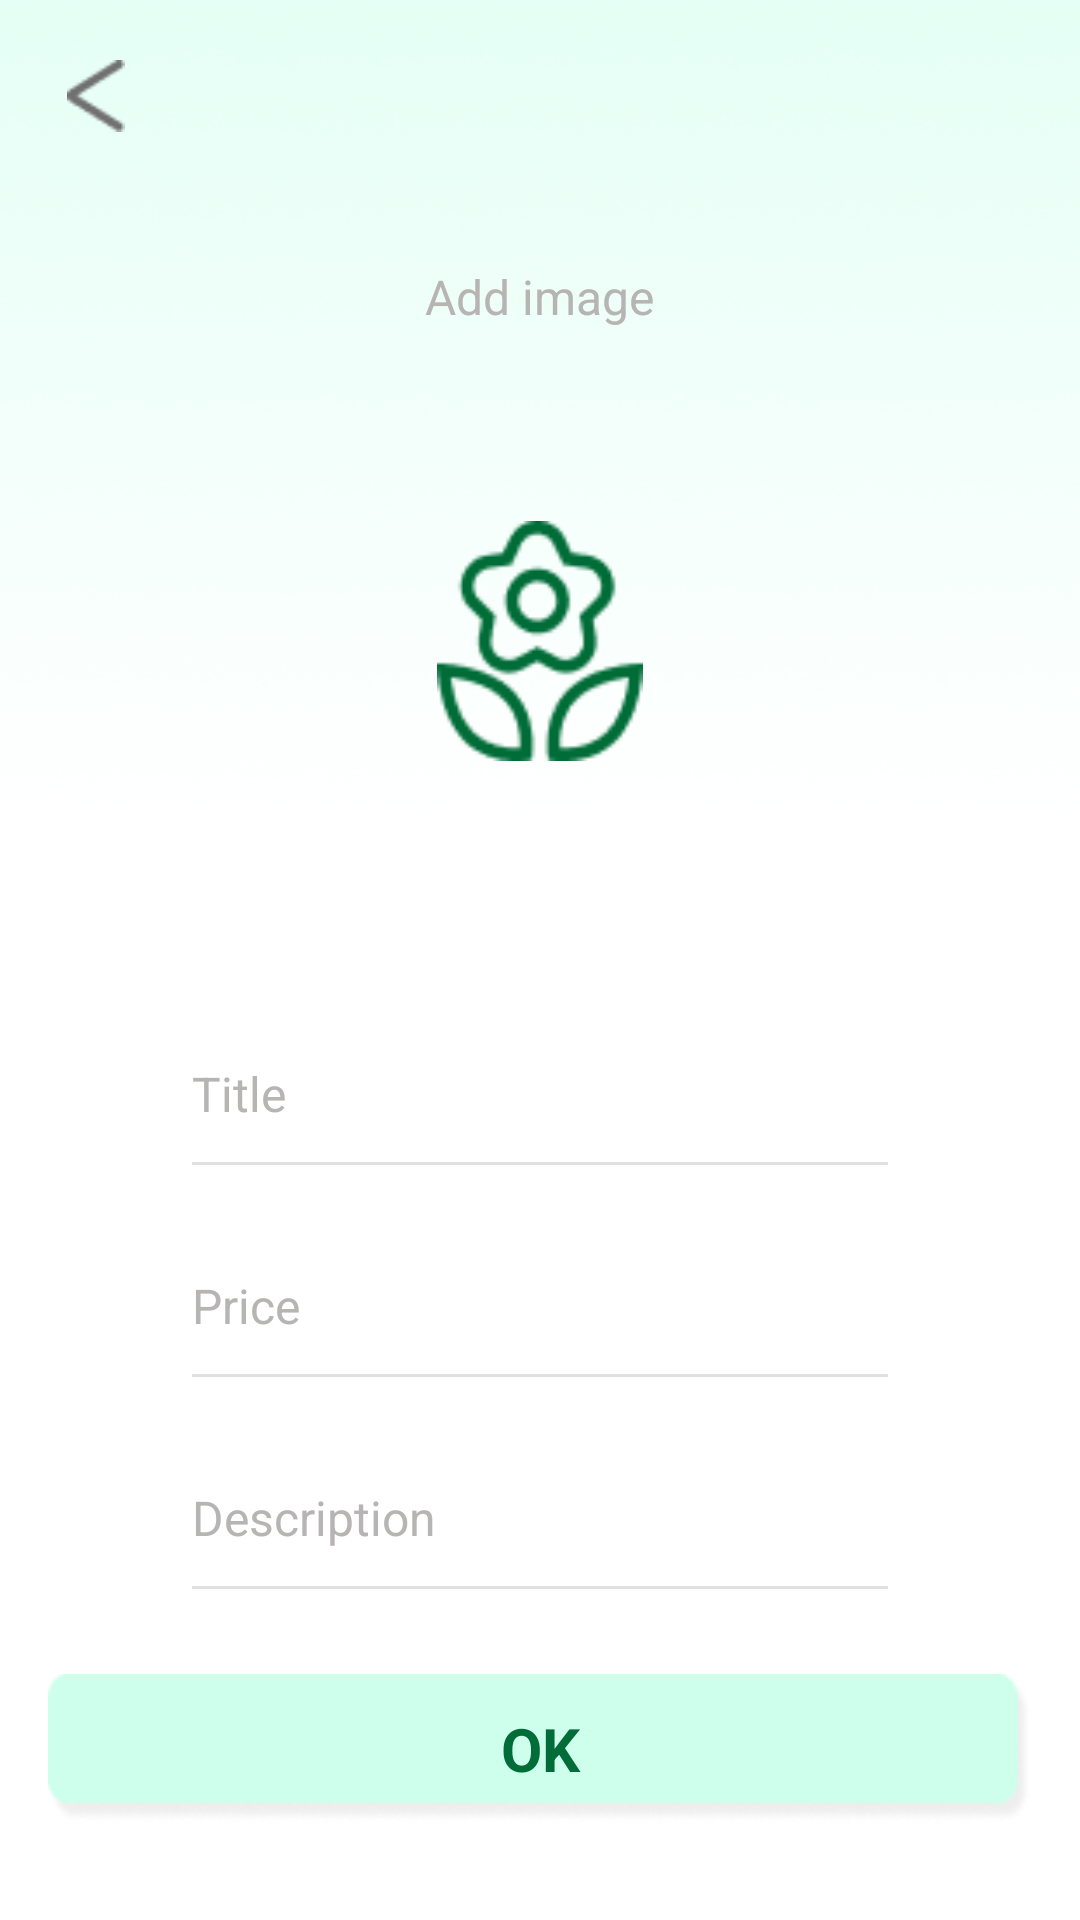

Named icons in this screenshot (1080w x 1920h) and their bounding boxes, (x1, y1, x2, y2):
back: (67, 60, 125, 132)
community flower: (437, 521, 643, 761)
